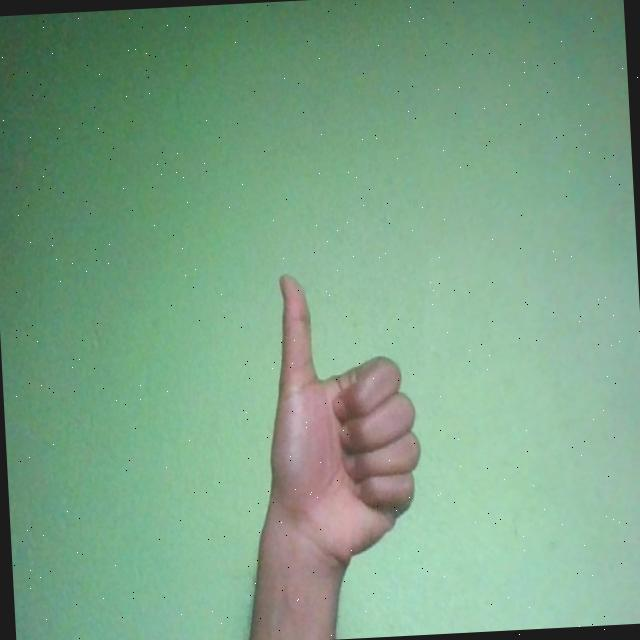Good Job: (260, 268, 428, 574)
